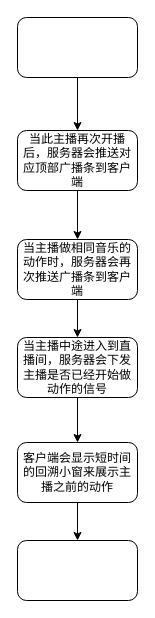
This 155x618 diagram has some shape labels left out. The shapes that lost their labels are listed below. From the top down, each one's centre as x and y in pixels, then its label:
At [77,47]: "当客户端有跟随主播健身一段完整的音乐，客户端会上传标识到服务器".
At [77,570]: "用户可以点选小窗可以跟随回溯健身，直到此段音乐停止，会回到当前的直播间".
